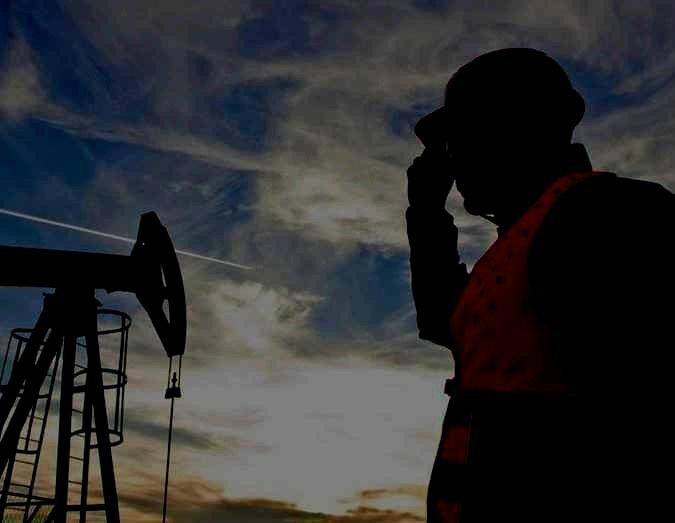helmet: (414, 47, 587, 216)
